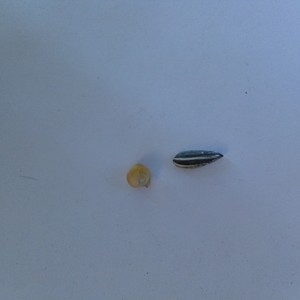girasol: (168, 145, 224, 172)
maiz: (125, 159, 152, 192)
